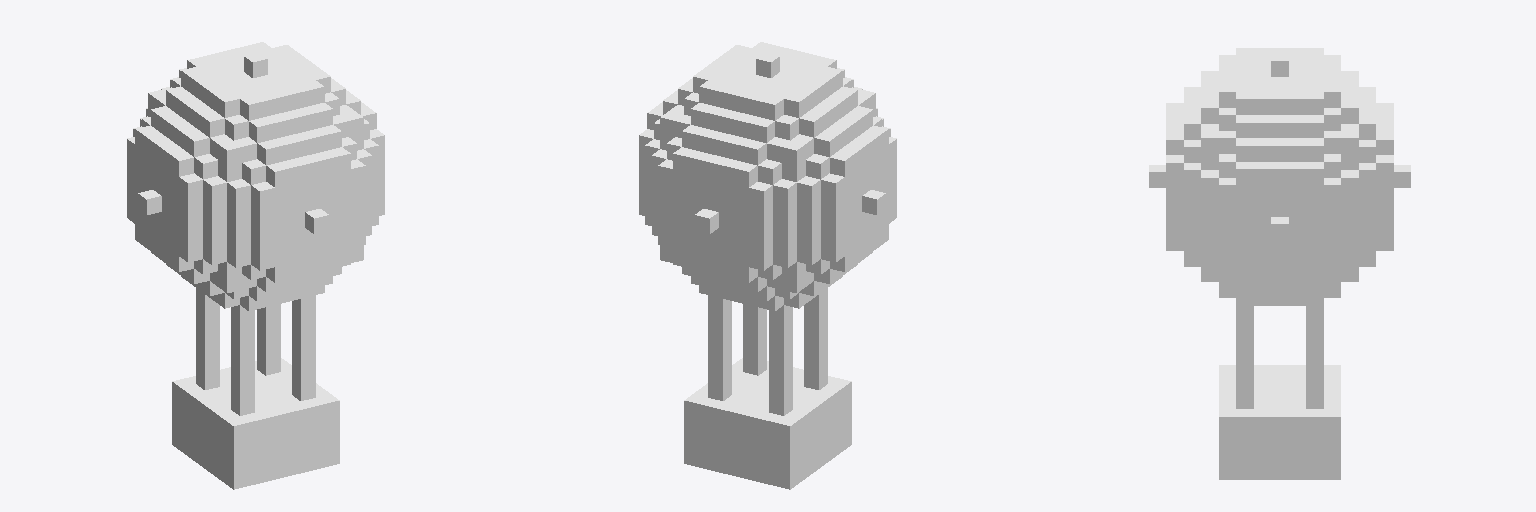
The model's file is hot_air_balloon_3.vox.obj.
3 renders of one model, left to right at view 1: azimuth 30°, elevation 25°; view 2: azimuth 150°, elevation 25°; view 3: azimuth 270°, elevation 25°, orthographic.
Parts seen in each view (by area): view 1: object 1; view 2: object 1; view 3: object 1.
Part boxes in pixels (x1,y1,x2,y2): object 1: (127,42,384,489); object 1: (639,42,896,489); object 1: (1149,48,1410,479).
Size of the model in its own units: 1.5 by 2.5 by 1.5.